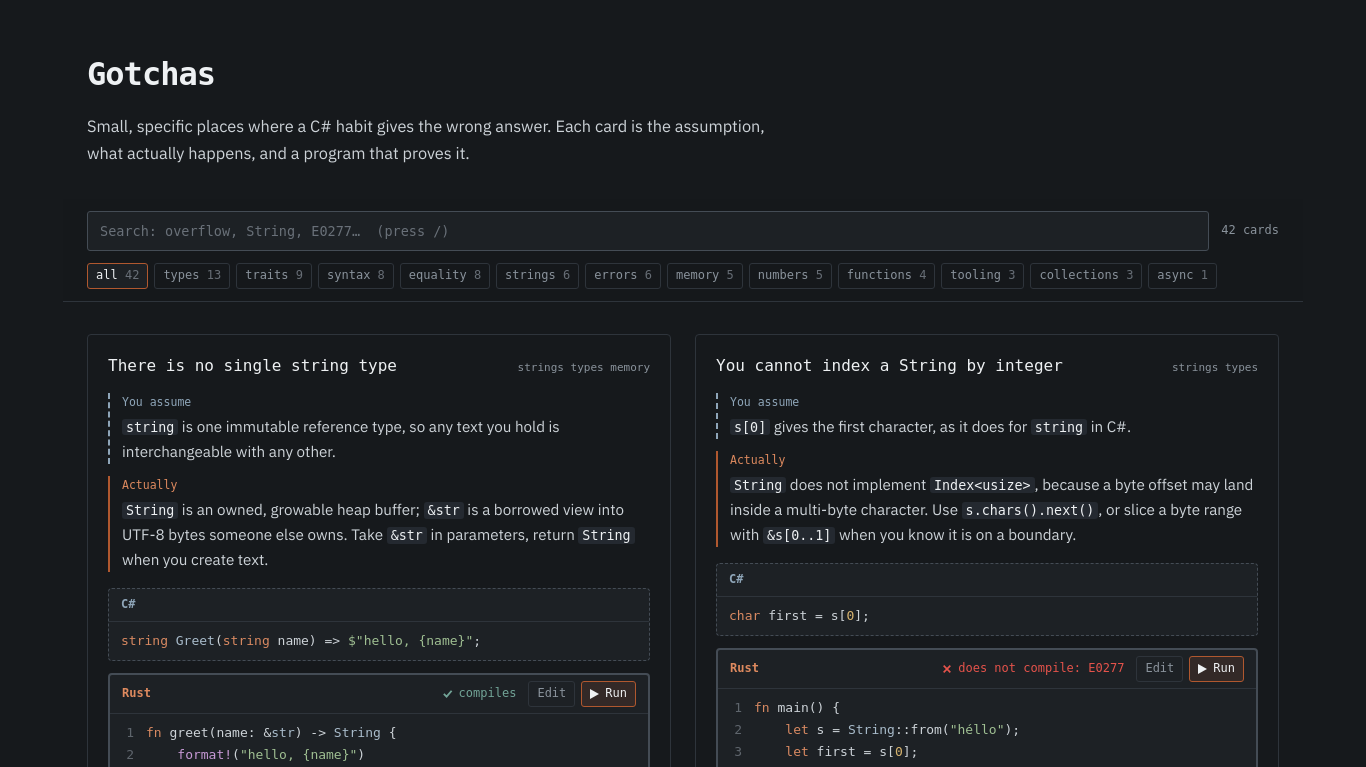
Test: GotchasPage › says no card matches when the search finds nothing
The width and height of the screenshot is (1366, 767).
Type "qqqxxyyzz" into the search field named "Search gotchas" at [648, 231], box [87,211,1209,251]
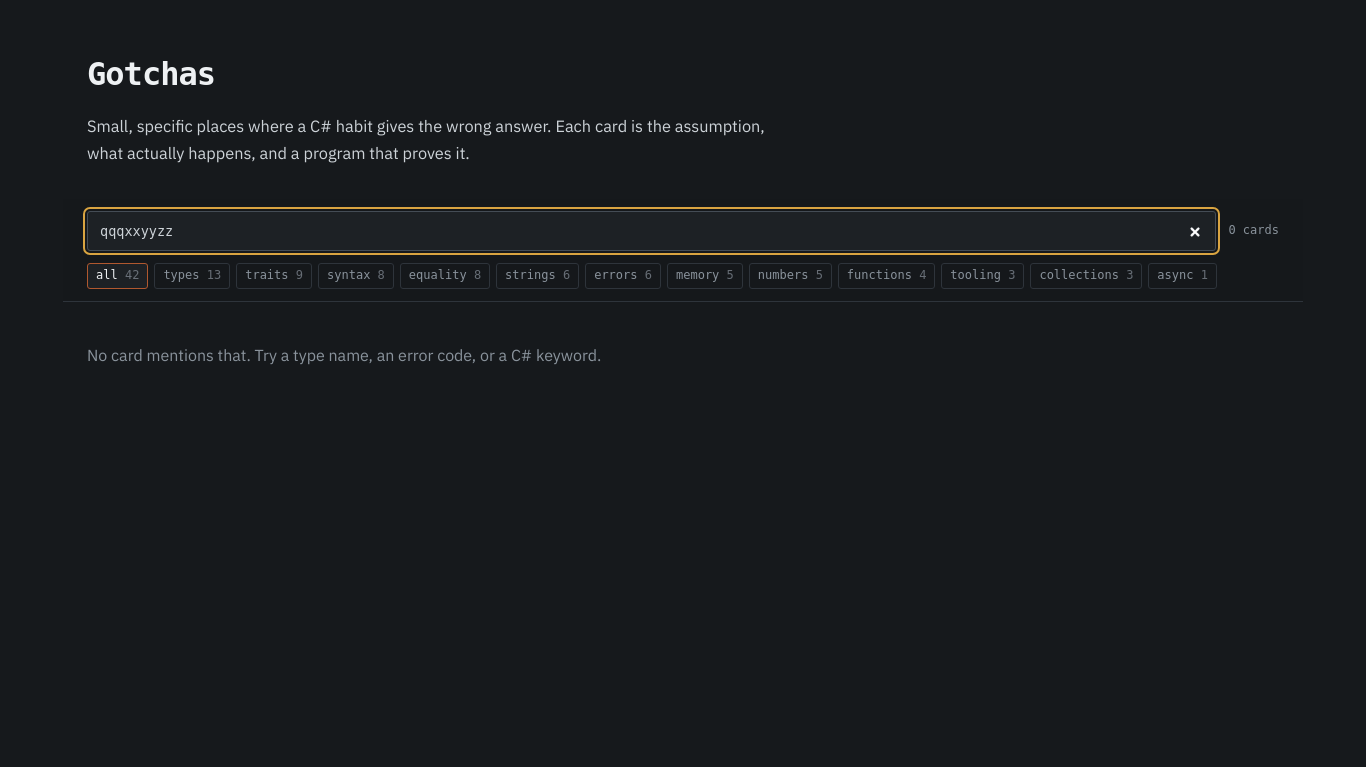
Expected: the text "No card mentions that" is shown, [87,345,601,365]
Expected: the text "0 cards" is shown, [1228,221,1279,241]
